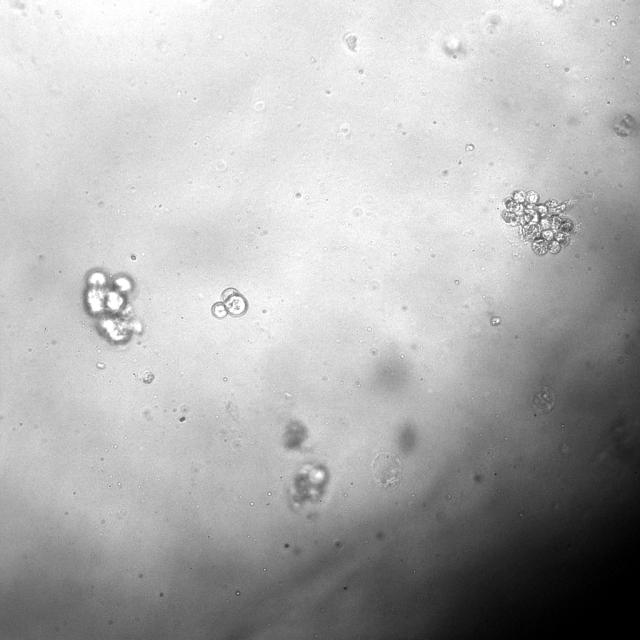organoid: (501, 189, 575, 254), (82, 269, 141, 345), (289, 462, 328, 508), (212, 287, 248, 318)
